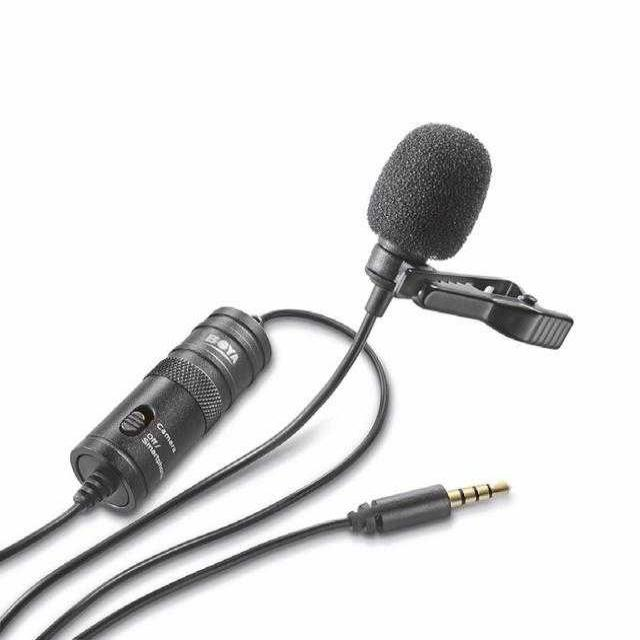microphone: (359, 111, 507, 312)
